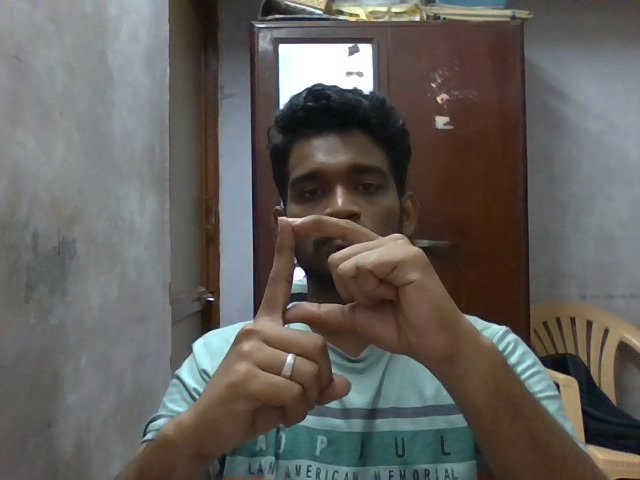D: (198, 209, 466, 459)
